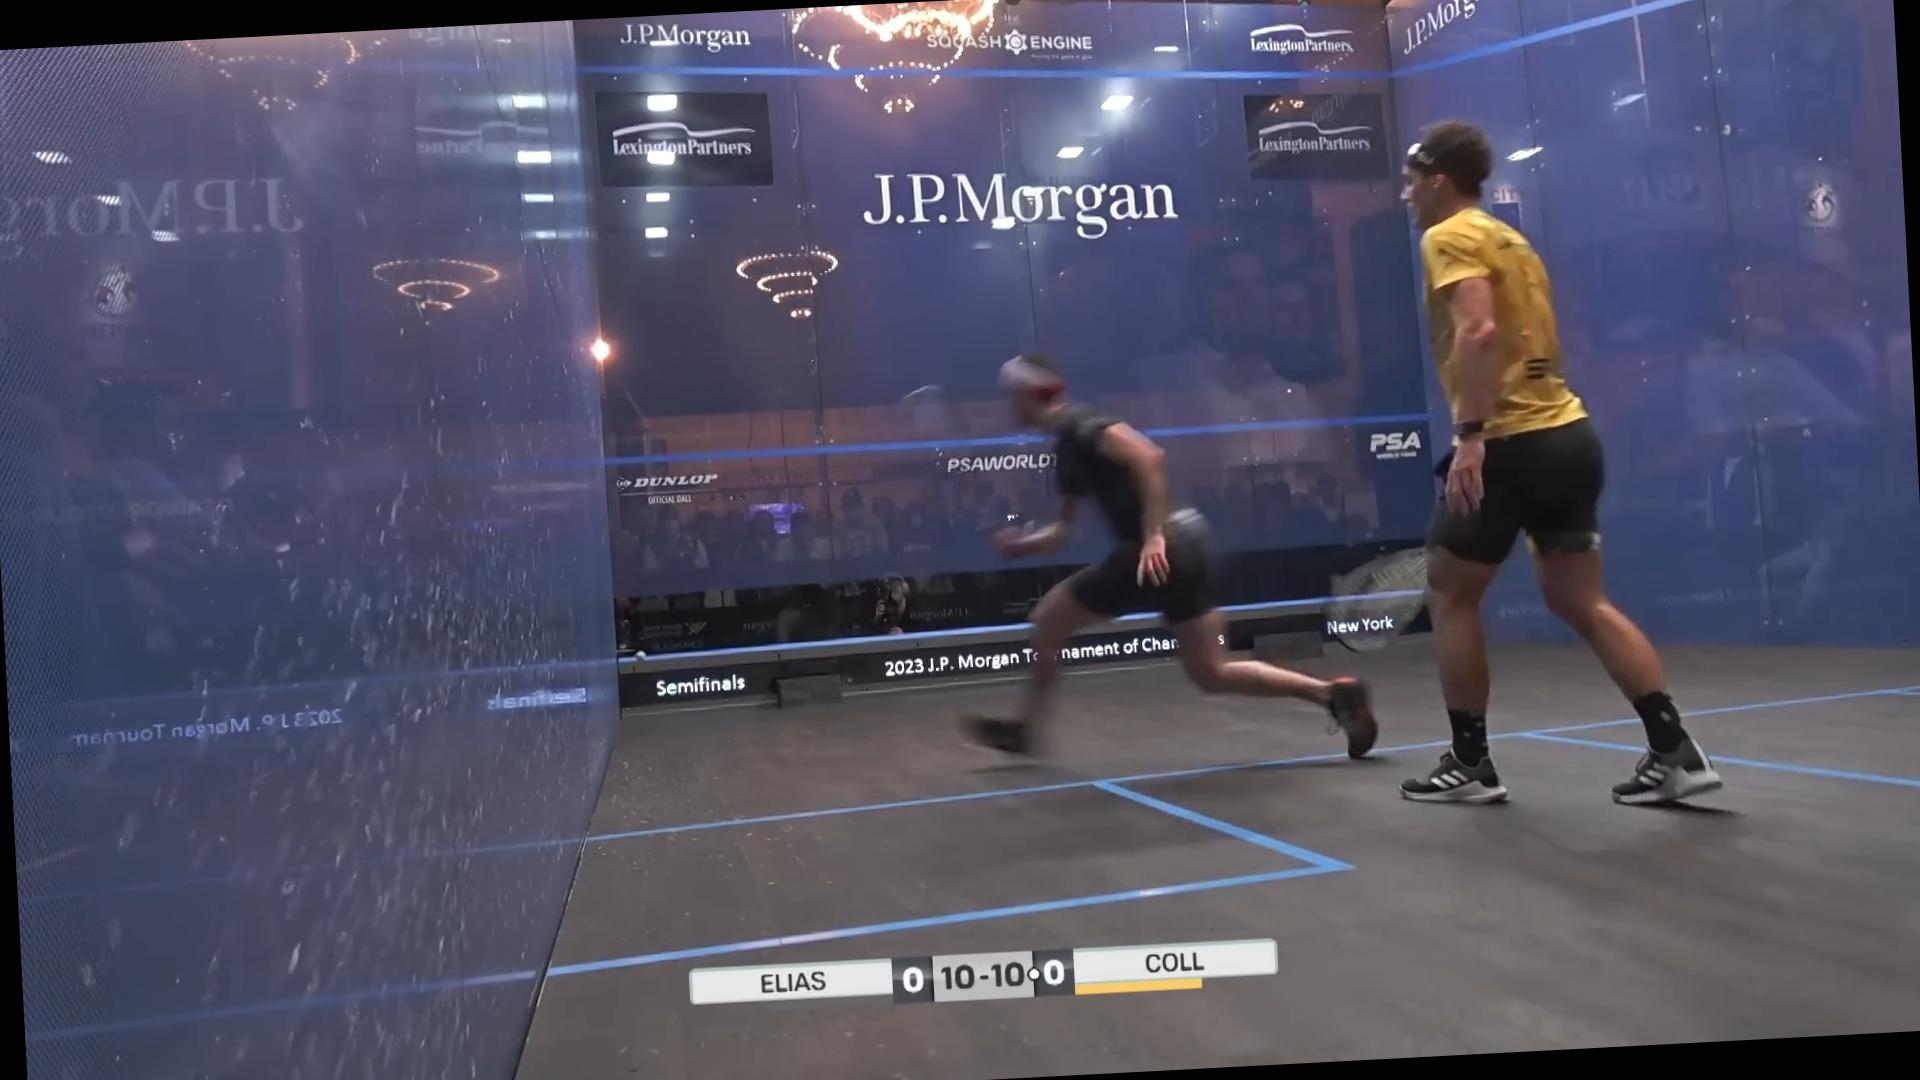Racket: (881, 365, 1006, 521), (1313, 534, 1433, 659)
